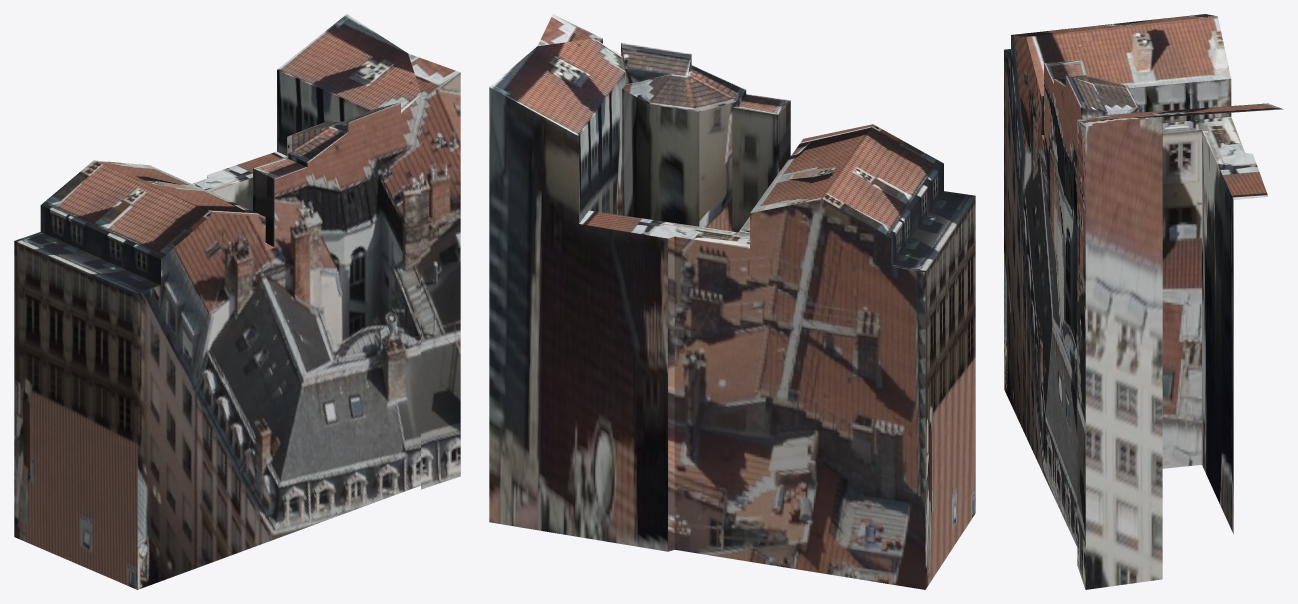
3 renders of one model, left to right at view 1: azimuth 30°, elevation 25°; view 2: azimuth 150°, elevation 25°; view 3: azimuth 270°, elevation 25°, orthographic. The views are drawn at different scales.
Visible parts, largest first — view 1: Z_UP; view 2: Z_UP; view 3: Z_UP.
Part boxes in pixels (x1,y1,x2,y2): Z_UP: (14, 14, 460, 589); Z_UP: (489, 14, 975, 589); Z_UP: (1004, 14, 1282, 589).
Bounding box in the file's own units: 27.2 × 26.57 × 14.49.
Materials: 2 (1 with a texture image).
